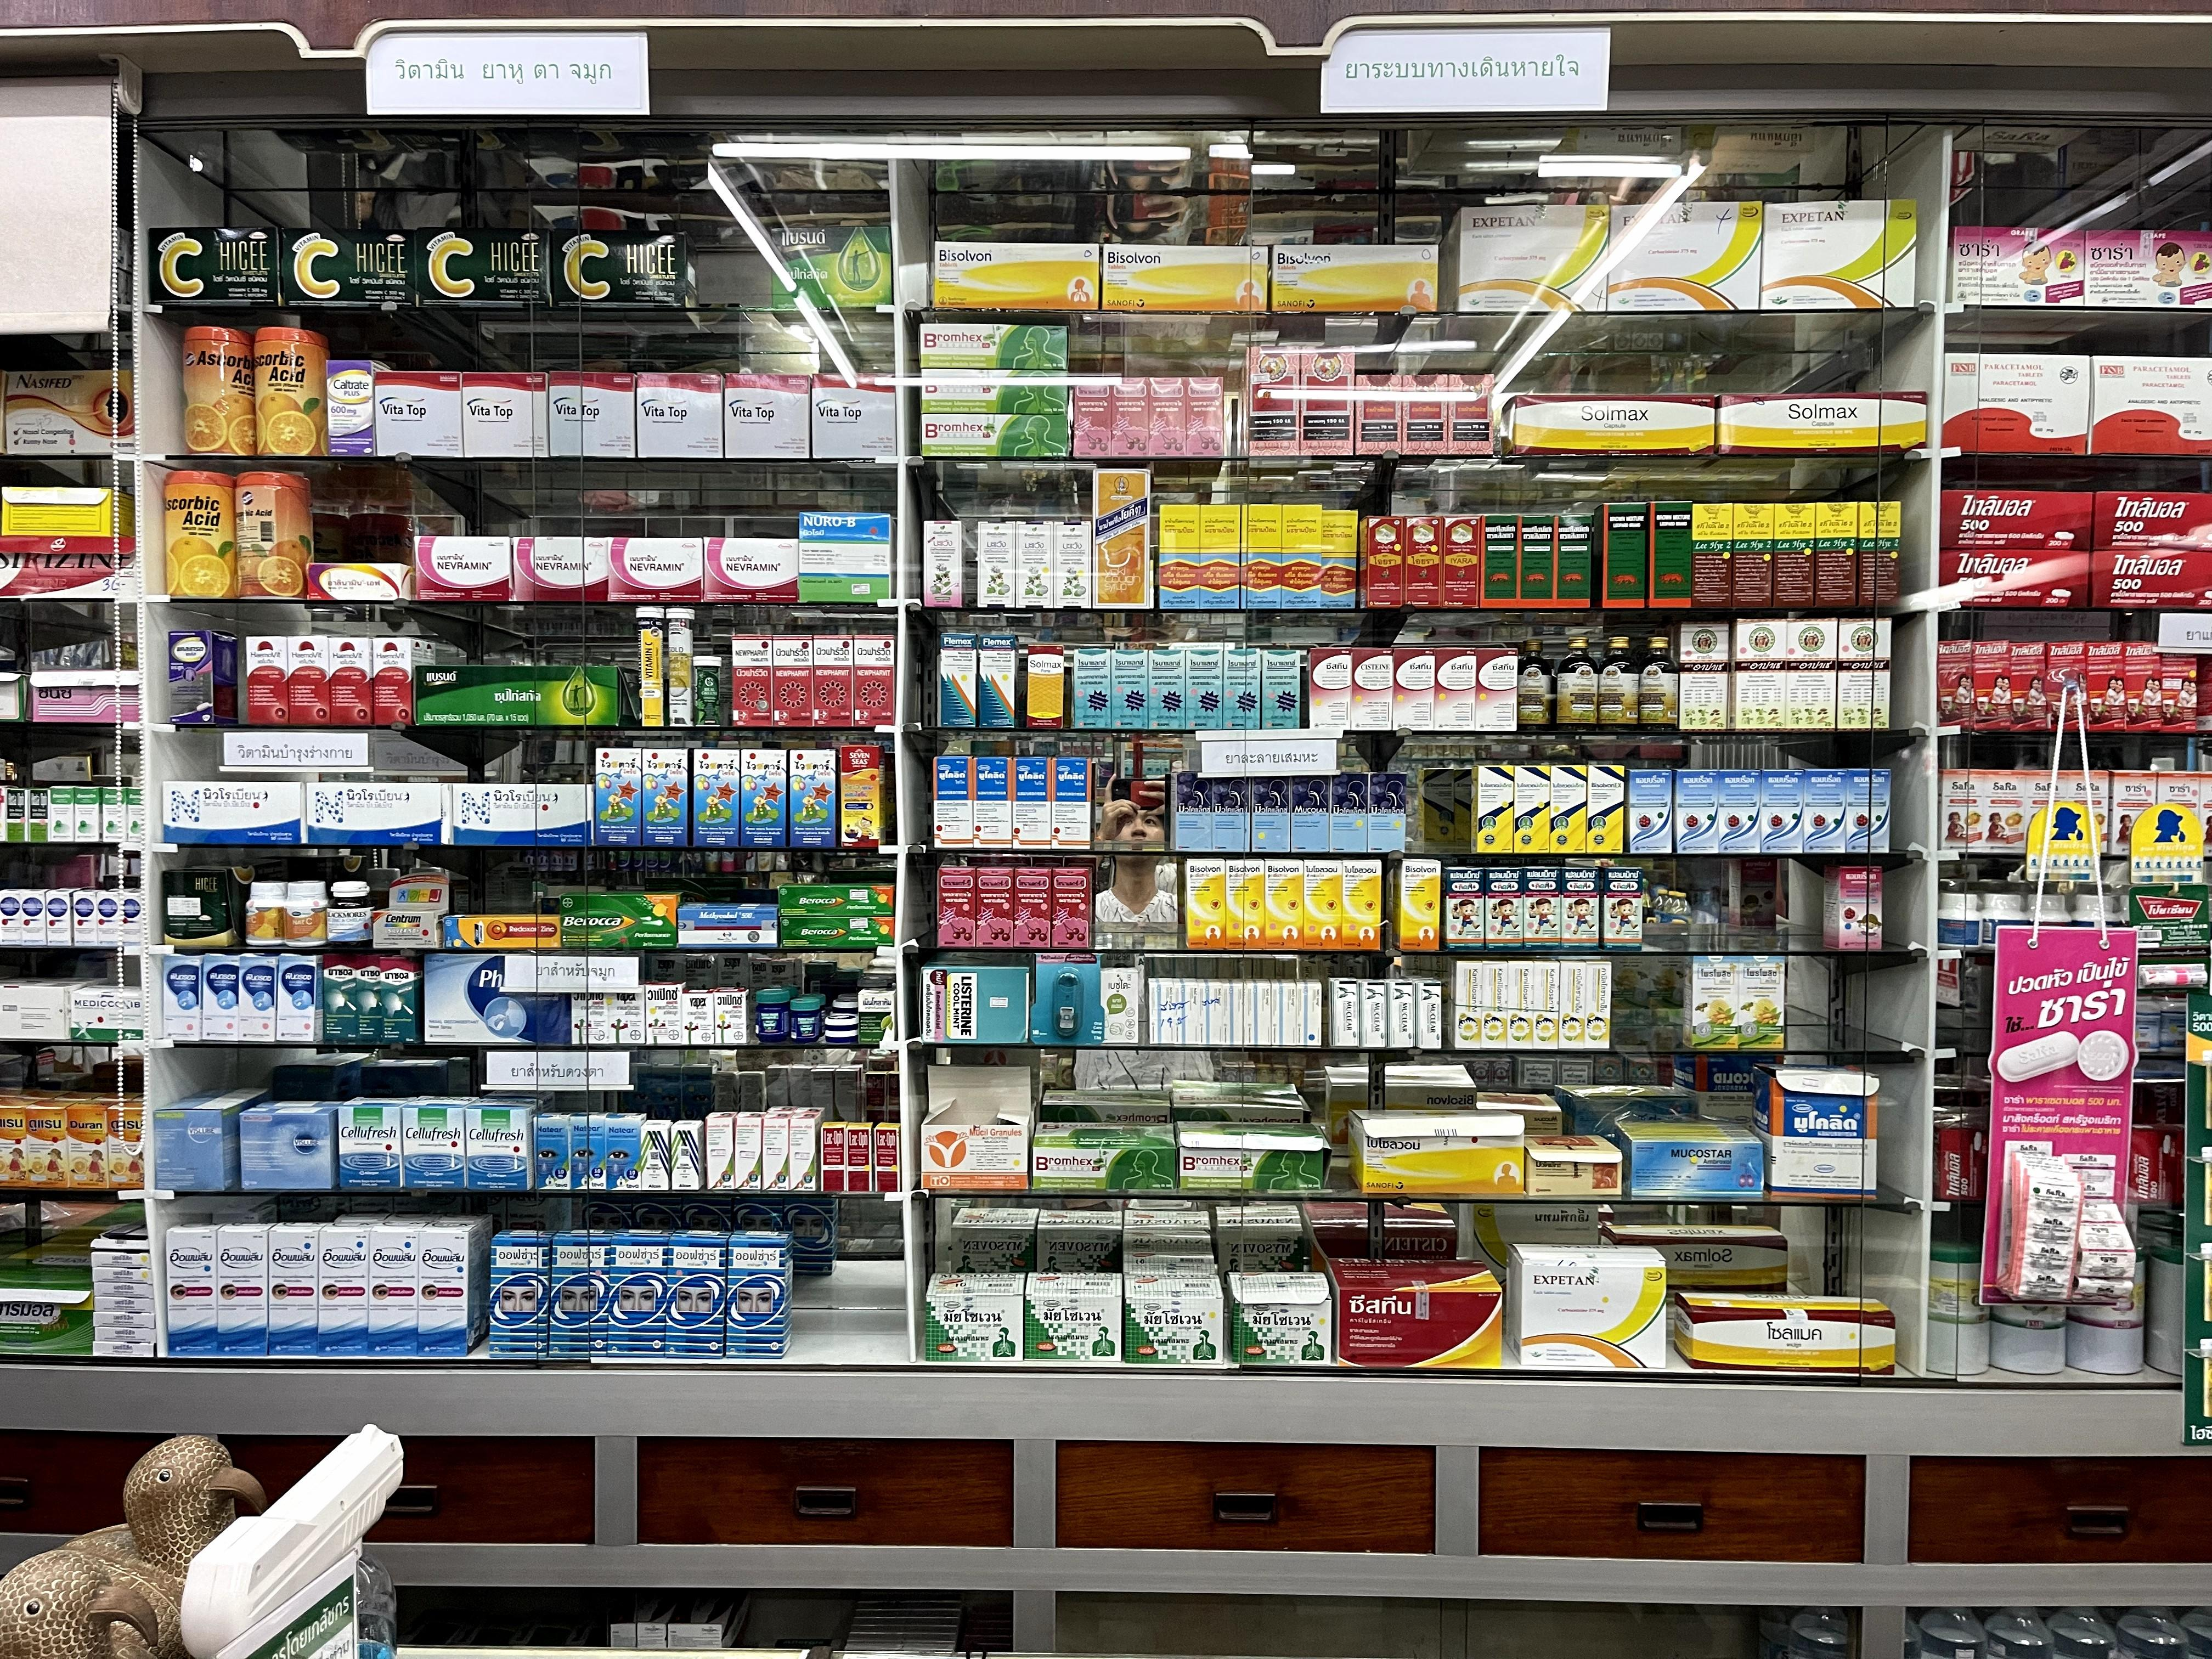Allergis: (75, 786, 103, 843), (101, 784, 127, 843), (51, 786, 75, 840), (125, 786, 146, 843)
Black-Tiger: (1480, 514, 1519, 606), (1519, 518, 1555, 608), (1555, 516, 1592, 606)
Black-Tiger_Big: (1595, 504, 1648, 612), (1648, 500, 1695, 606)
Cisteine: (1308, 647, 1352, 730), (1352, 647, 1393, 730), (1433, 647, 1475, 730), (1475, 647, 1517, 730), (1393, 647, 1433, 728)
Cisteine_Box: (1329, 1258, 1501, 1370)
Heamovit: (246, 634, 289, 725), (329, 636, 374, 723), (287, 636, 329, 725), (373, 636, 415, 725)
Iyara: (1360, 516, 1404, 608), (1402, 514, 1440, 605), (1440, 516, 1477, 608)
Lac-Oph_Red: (873, 1121, 902, 1192), (846, 1122, 873, 1192), (822, 1122, 846, 1190)
Ma-Kham-Pom: (1198, 504, 1240, 608), (1240, 502, 1280, 608), (1160, 505, 1198, 608), (1282, 505, 1320, 606), (1320, 507, 1357, 610)
Ma-Kham-Pom_Bottle: (1557, 638, 1601, 730), (1639, 636, 1679, 728), (1601, 638, 1639, 730), (1519, 640, 1555, 730)
Ma-Vaeng_Light: (923, 519, 961, 606)
Ma-Vaeng_Syrup: (1014, 519, 1055, 608), (1054, 523, 1092, 606), (977, 523, 1014, 606)
Muclear: (1413, 976, 1442, 1051), (1357, 979, 1388, 1047), (1386, 978, 1416, 1047), (1331, 978, 1359, 1047)
Mucolax: (1366, 770, 1407, 854), (1170, 769, 1214, 849), (1251, 770, 1289, 854), (1331, 770, 1369, 854), (1292, 772, 1331, 854), (1211, 770, 1249, 849)
Nac-Long: (1195, 981, 1221, 1046), (1244, 981, 1270, 1046), (1270, 981, 1296, 1046), (1294, 981, 1320, 1046), (1150, 981, 1174, 1044), (1221, 981, 1244, 1047), (1174, 979, 1195, 1042)
NatC: (286, 882, 327, 946), (246, 882, 286, 945)
Nevramin: (704, 535, 801, 601), (610, 538, 705, 605), (415, 537, 514, 598), (514, 537, 610, 599)
Newpharvit: (772, 634, 813, 725), (853, 634, 894, 727), (813, 636, 853, 727), (732, 636, 772, 725)
Opplin: (418, 1222, 479, 1358), (218, 1222, 270, 1356), (167, 1223, 219, 1356), (270, 1222, 320, 1354), (320, 1223, 369, 1356), (371, 1222, 418, 1354)
Opsar: (728, 1230, 792, 1358), (667, 1230, 730, 1358), (610, 1230, 669, 1358), (552, 1230, 611, 1356), (491, 1230, 550, 1354)
Pei-Pa-Koa: (1400, 376, 1449, 455), (1449, 373, 1494, 457), (1355, 375, 1400, 457)
Pei-Pa-Koa_Big: (1245, 345, 1301, 458), (1301, 345, 1355, 457)
Rhinalax: (1223, 648, 1261, 730), (1261, 650, 1299, 730), (1073, 648, 1111, 727), (1148, 650, 1186, 727), (1186, 650, 1223, 728), (1111, 650, 1146, 728)
Rhinalax-B: (1184, 376, 1224, 460), (1050, 866, 1092, 946), (1073, 376, 1113, 458), (1148, 378, 1186, 458), (975, 866, 1014, 946), (1014, 864, 1050, 948), (1113, 376, 1148, 458), (941, 868, 975, 946)
Solmax: (1028, 645, 1064, 728)
Solmax-Capsule: (1674, 1291, 1897, 1375), (1500, 396, 1716, 457), (1717, 392, 1926, 455)
VapoRub_Big: (754, 990, 792, 1042)
VapoRub_Mid: (791, 997, 822, 1040)
VapoRub_Small: (824, 1028, 860, 1044), (824, 1014, 859, 1028), (833, 999, 862, 1012)
Vislube20: (242, 1107, 336, 1188)
Vislube60: (155, 1107, 230, 1194)
